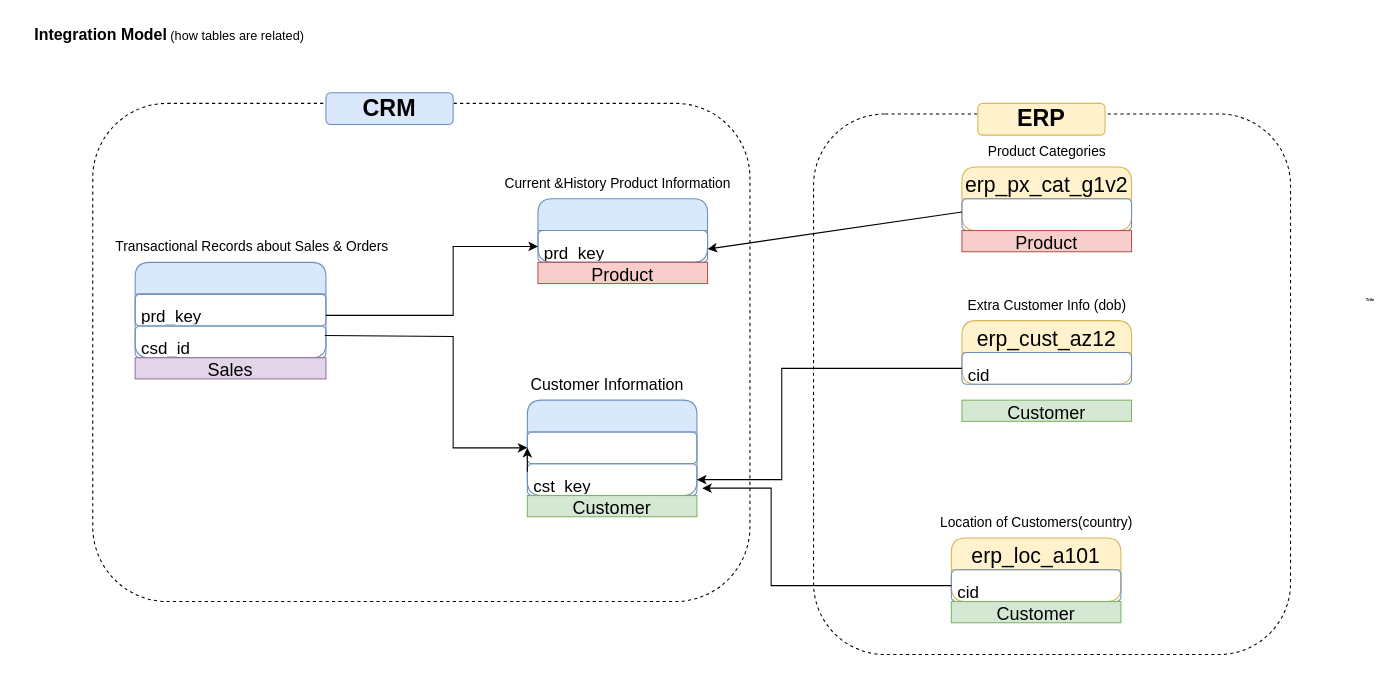
The diagram is 1393 pixels wide and 673 high, and some of its shapes have lost their labels. The box of each missing label's shape, as (x1, y1, x2, y2) in pixels:
crm_cust_info: (526, 399, 697, 496)
crm_prd_info: (537, 198, 708, 262)
crm_sales_details: (134, 261, 326, 358)
cst_id: (526, 431, 697, 464)
id: (961, 198, 1132, 231)
